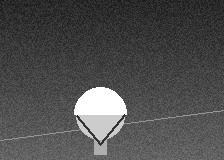helmet: (74, 87, 126, 144)
